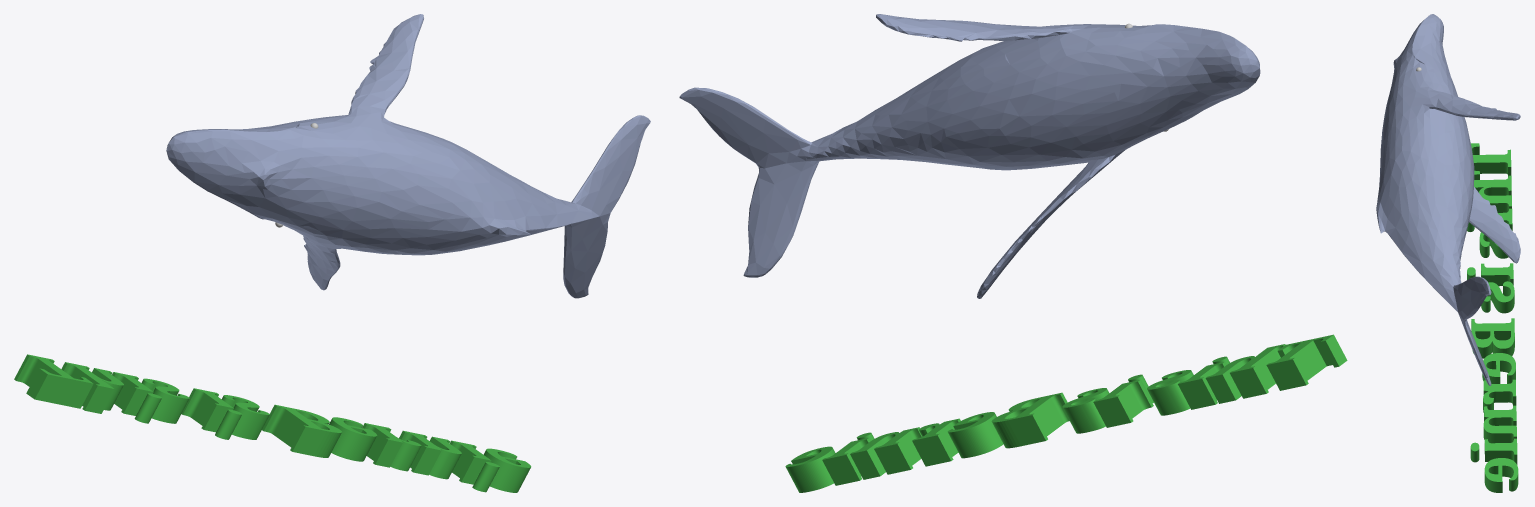
File: tinker.obj
The picture shows the model from 3 angles, left to right: view 1: azimuth 30°, elevation 25°; view 2: azimuth 150°, elevation 25°; view 3: azimuth 270°, elevation 25°; orthographic projection. The views are drawn at different scales.
Visible parts, largest first — view 1: group_0_9806015, group_0_4634441; view 2: group_0_9806015, group_0_4634441; view 3: group_0_9806015, group_0_4634441.
Part boxes in pixels (x1=…): group_0_9806015: x1=166, y1=14, x2=650, y2=298; group_0_4634441: x1=14, y1=354, x2=531, y2=492; group_0_9806015: x1=679, y1=14, x2=1260, y2=298; group_0_4634441: x1=785, y1=334, x2=1347, y2=492; group_0_9806015: x1=1376, y1=14, x2=1520, y2=385; group_0_4634441: x1=1467, y1=143, x2=1518, y2=492.
Bounding box in the file's own units: 179 × 131 × 49.37.
